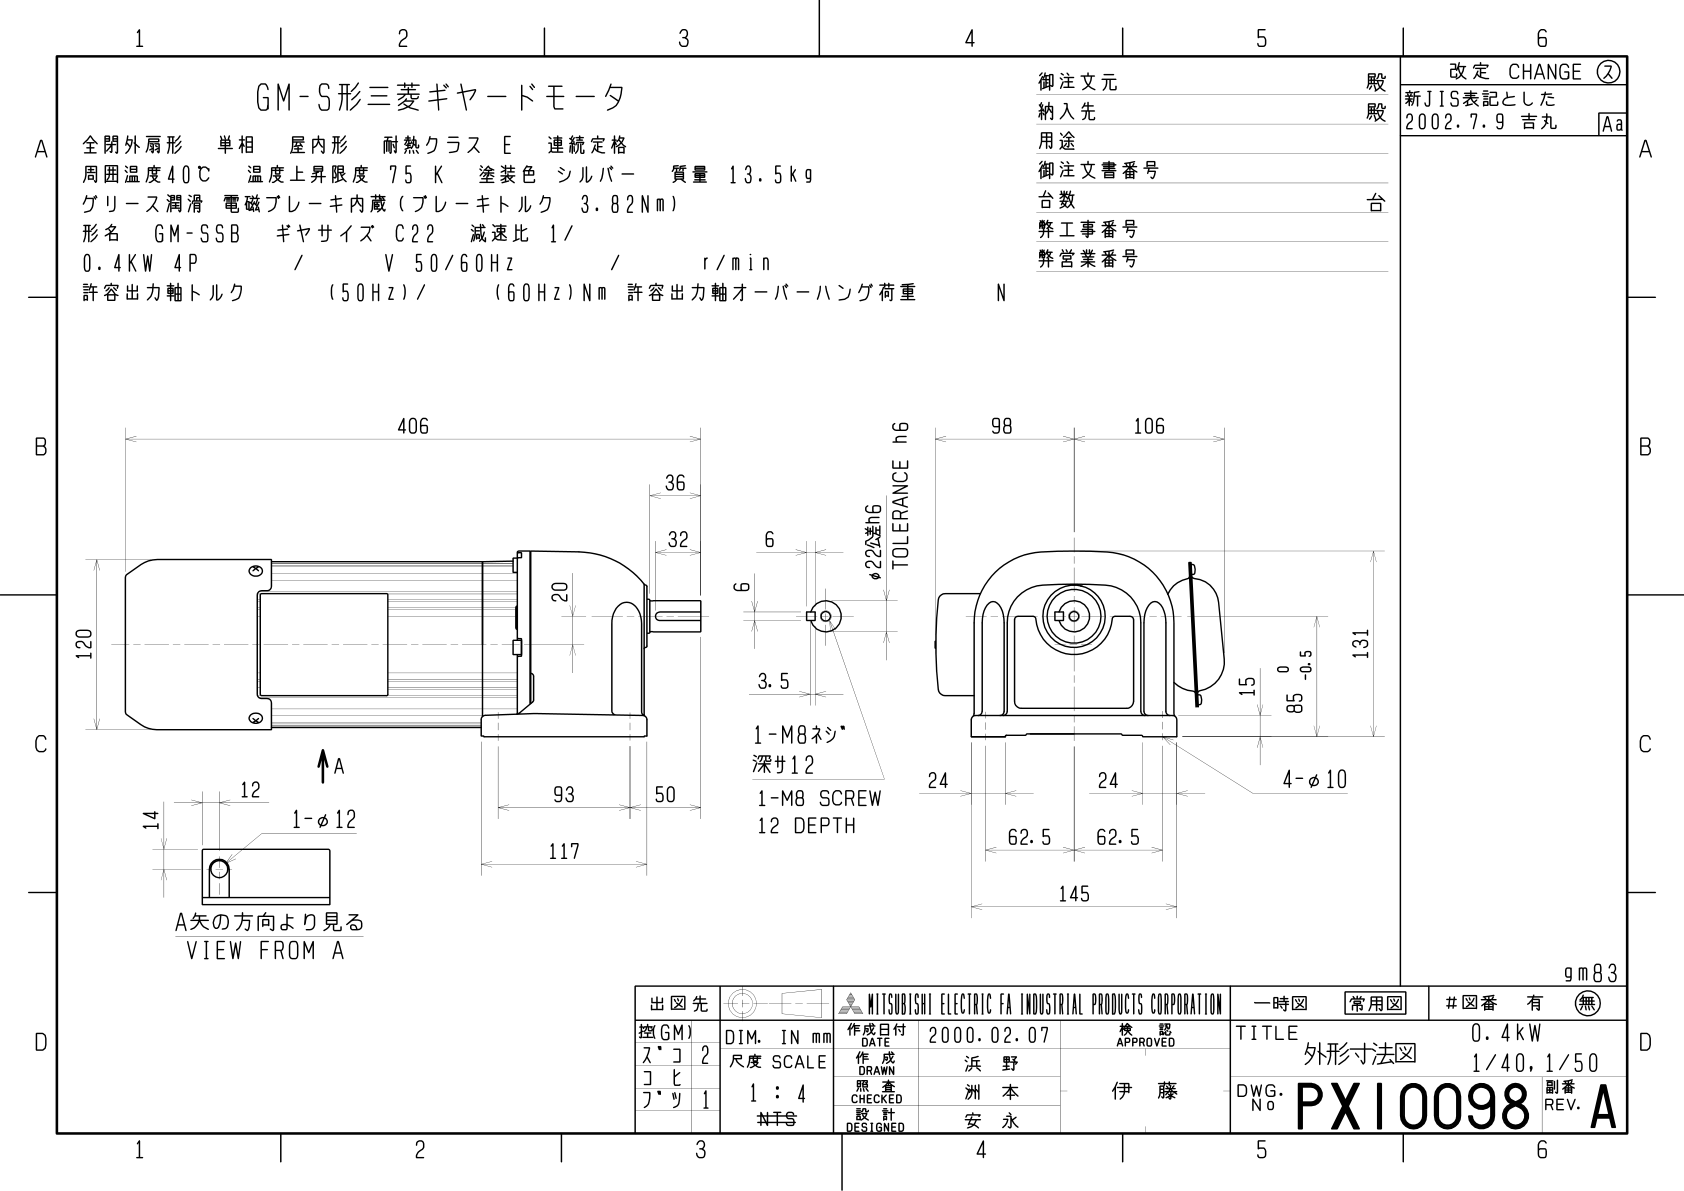GM_S_屋内＿三相_脚: (63, 380, 1393, 974)
